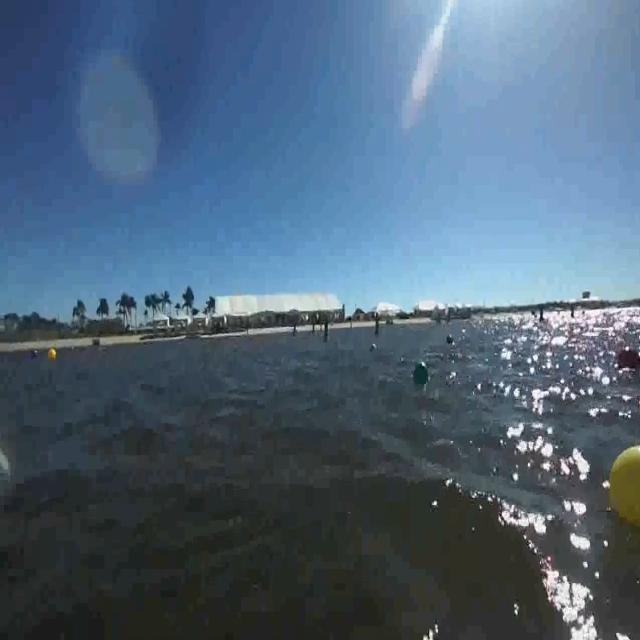yellow-buoy: (608, 444, 640, 530), (47, 347, 57, 362)
